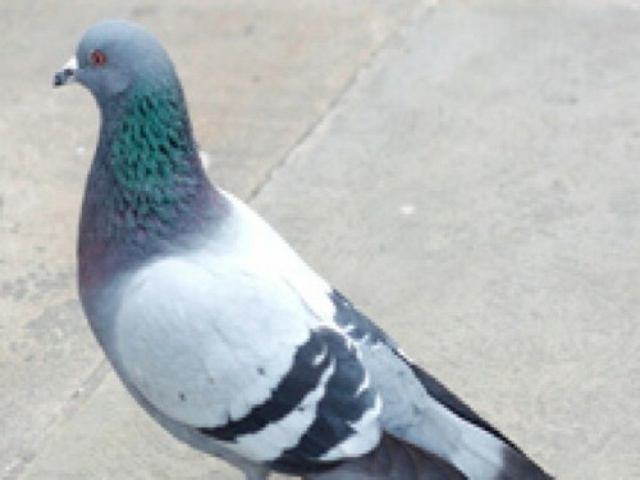Pigeon: (49, 17, 559, 480)
